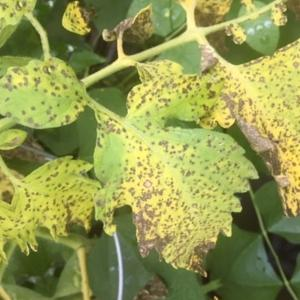Tomato leaf bacterial spot: (65, 72, 292, 300), (154, 20, 300, 255), (1, 140, 129, 268), (106, 36, 231, 148), (0, 36, 108, 156)
